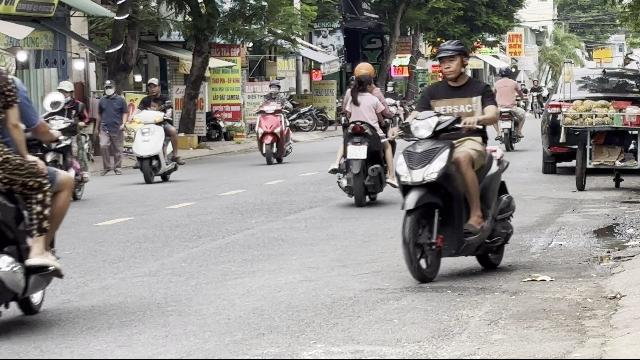helmet: (432, 40, 472, 80), (353, 62, 375, 80), (268, 80, 280, 94)
licenseplate: (347, 145, 367, 159)
motorcyclist: (391, 37, 522, 282), (328, 61, 396, 205), (129, 76, 183, 186), (252, 79, 296, 164)
nohelmet: (349, 74, 375, 96), (144, 78, 160, 96), (148, 98, 162, 112)
